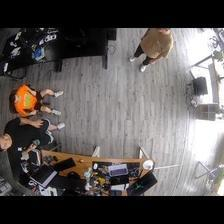normal: (128, 28, 174, 72), (10, 84, 62, 118)
